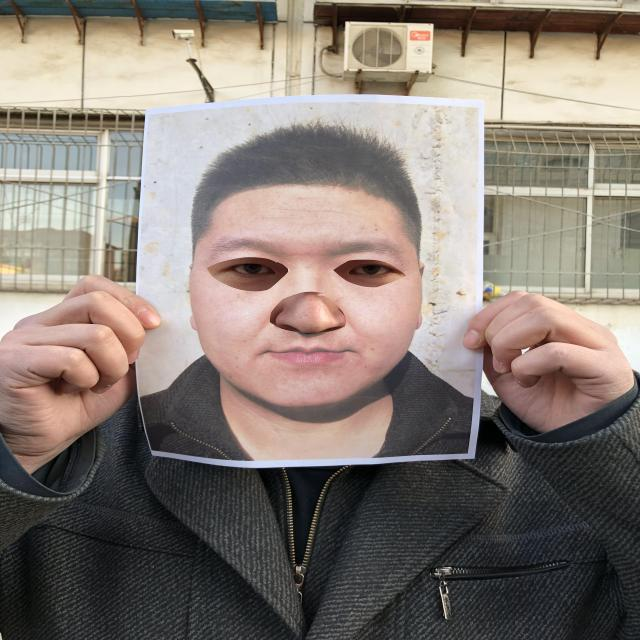mask: (133, 92, 503, 469)
